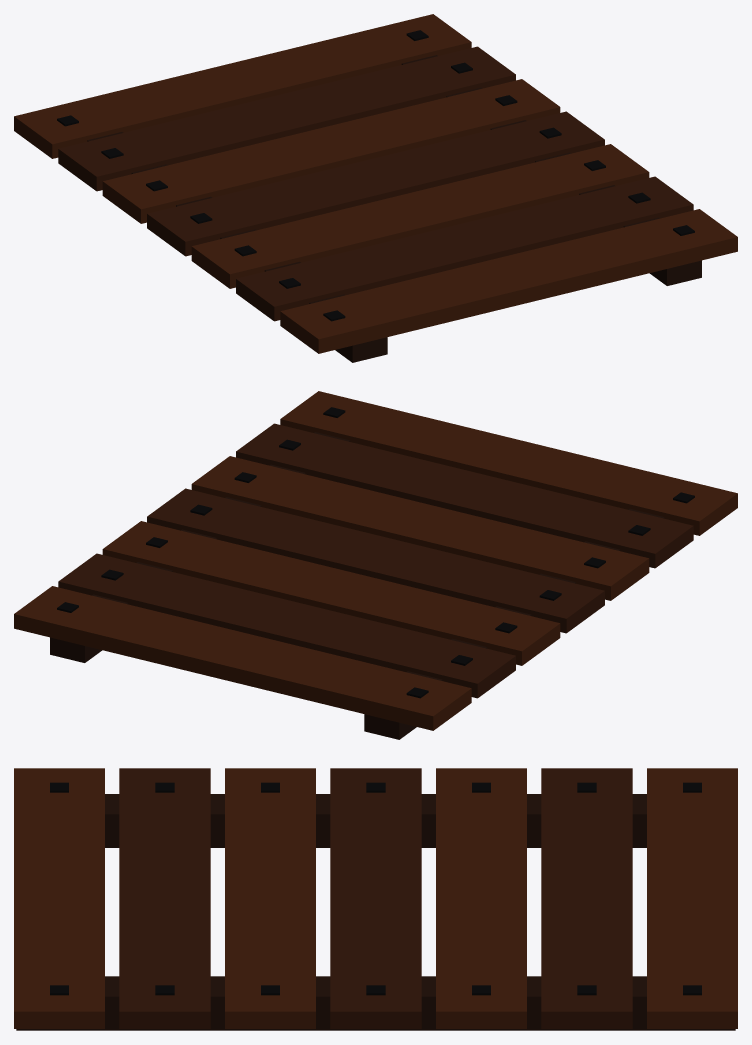
The model's file is SM_Hide_PlankBridge.glb.
3 views of the same model, one above another, from view 1: azimuth 30°, elevation 25°; view 2: azimuth 150°, elevation 25°; view 3: azimuth 270°, elevation 25° (orthographic). The views are drawn at different scales.
Visible parts, largest first — view 1: SM_Hide_PlankBridge-col; view 2: SM_Hide_PlankBridge-col; view 3: SM_Hide_PlankBridge-col.
Boxes of the visible parts, x1,y1,x2,y2 form: SM_Hide_PlankBridge-col: [14, 14, 737, 362]; SM_Hide_PlankBridge-col: [14, 391, 737, 739]; SM_Hide_PlankBridge-col: [14, 768, 737, 1030].
Size of the model in its own units: 1.2 by 0.095 by 1.51.
